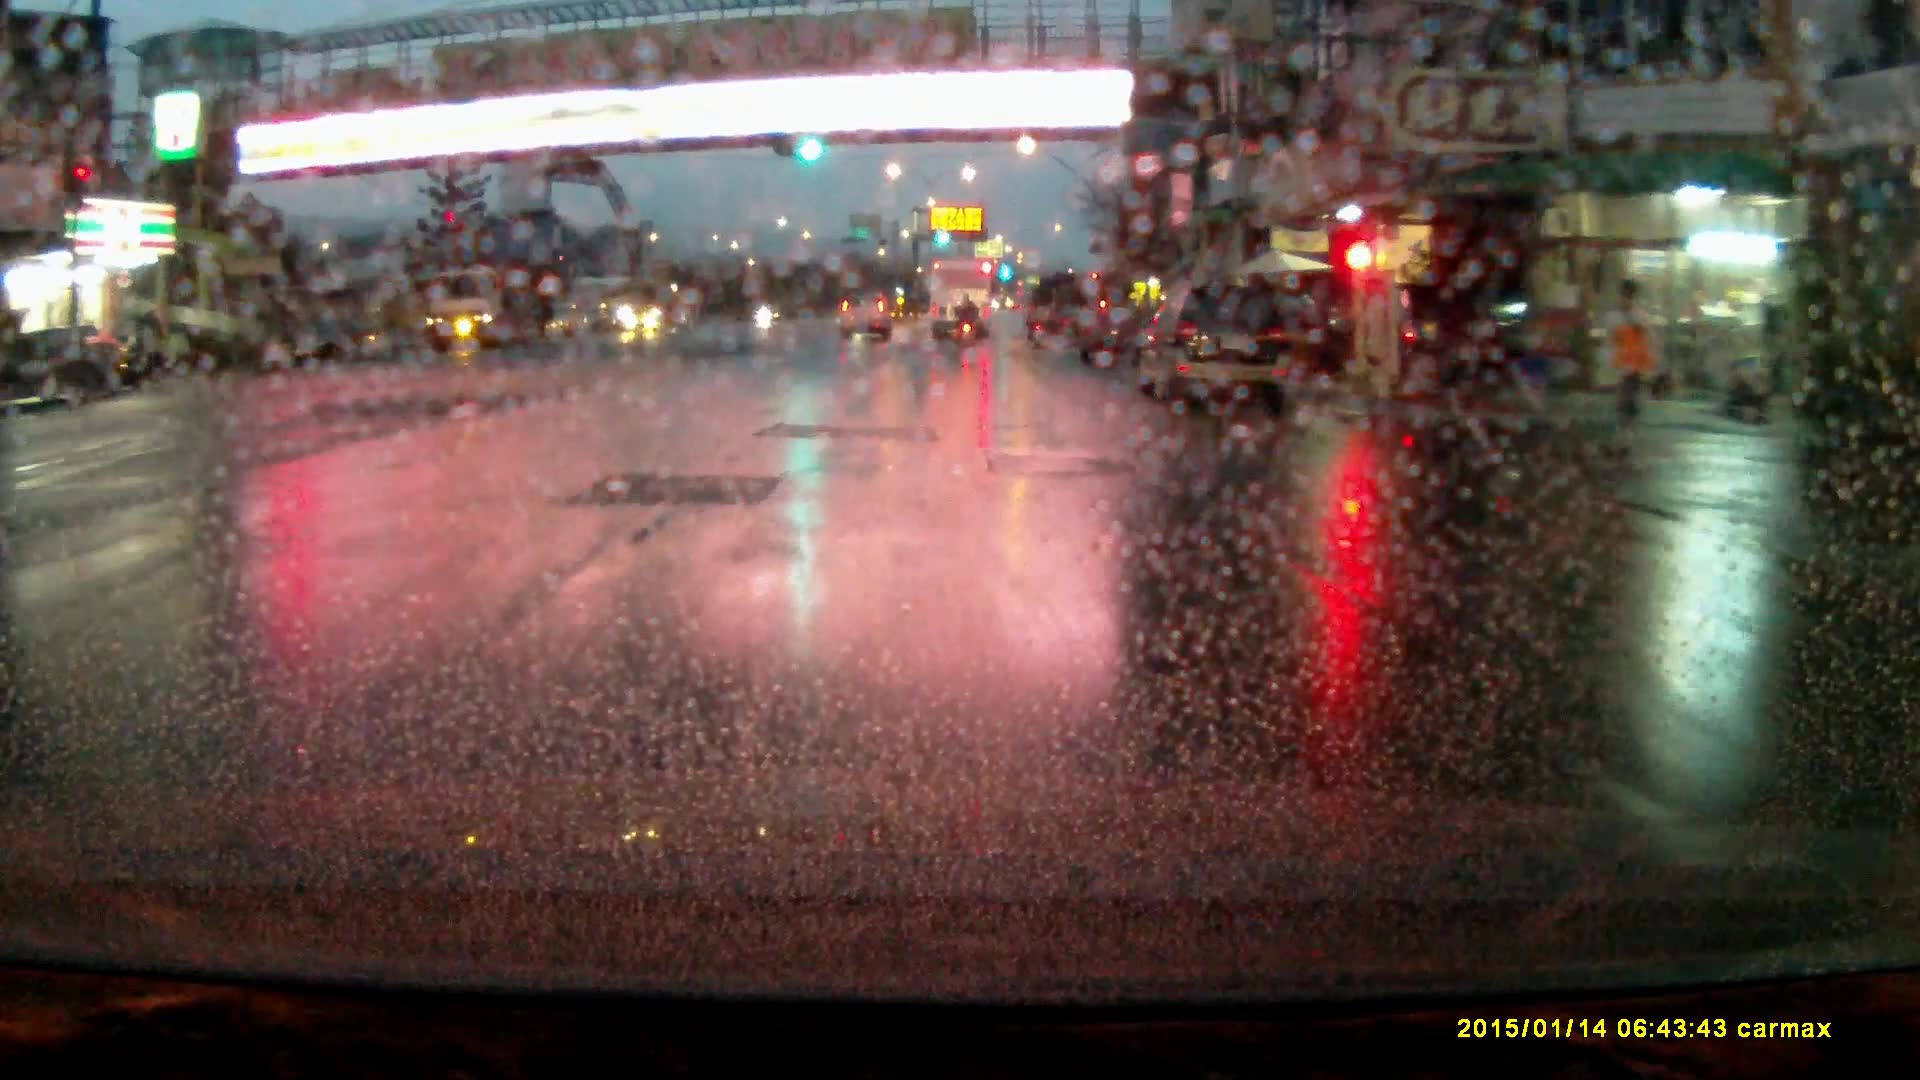pedestrian: (1591, 268, 1663, 458)
rider: (953, 292, 979, 352)
vehicle: (1139, 289, 1293, 407), (1403, 284, 1532, 383), (1, 326, 142, 415), (423, 265, 542, 359), (1077, 310, 1156, 368), (931, 262, 990, 336), (619, 285, 689, 335), (841, 294, 894, 343)
